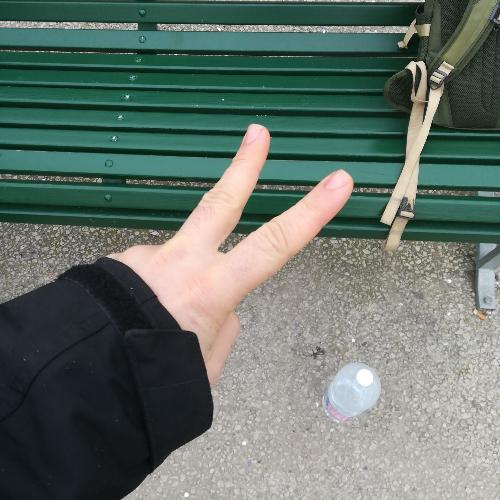scissors: (88, 119, 357, 400)
